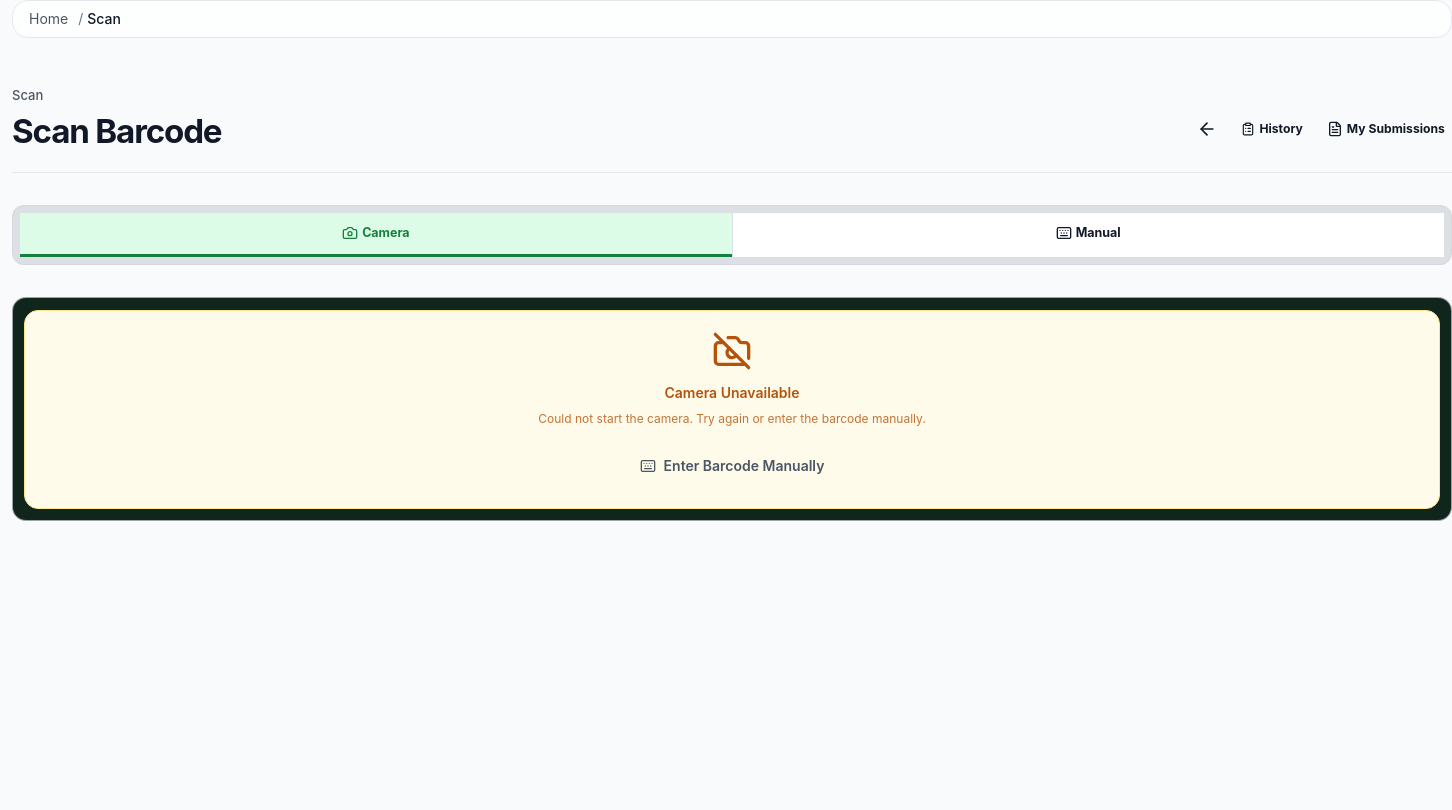
Test: ScanPage › enables look up button when EAN is valid (8+ digits)
This screenshot has width=1452, height=810.
Click the button "Manual" at [1088, 235], box [732,213,1444,257]
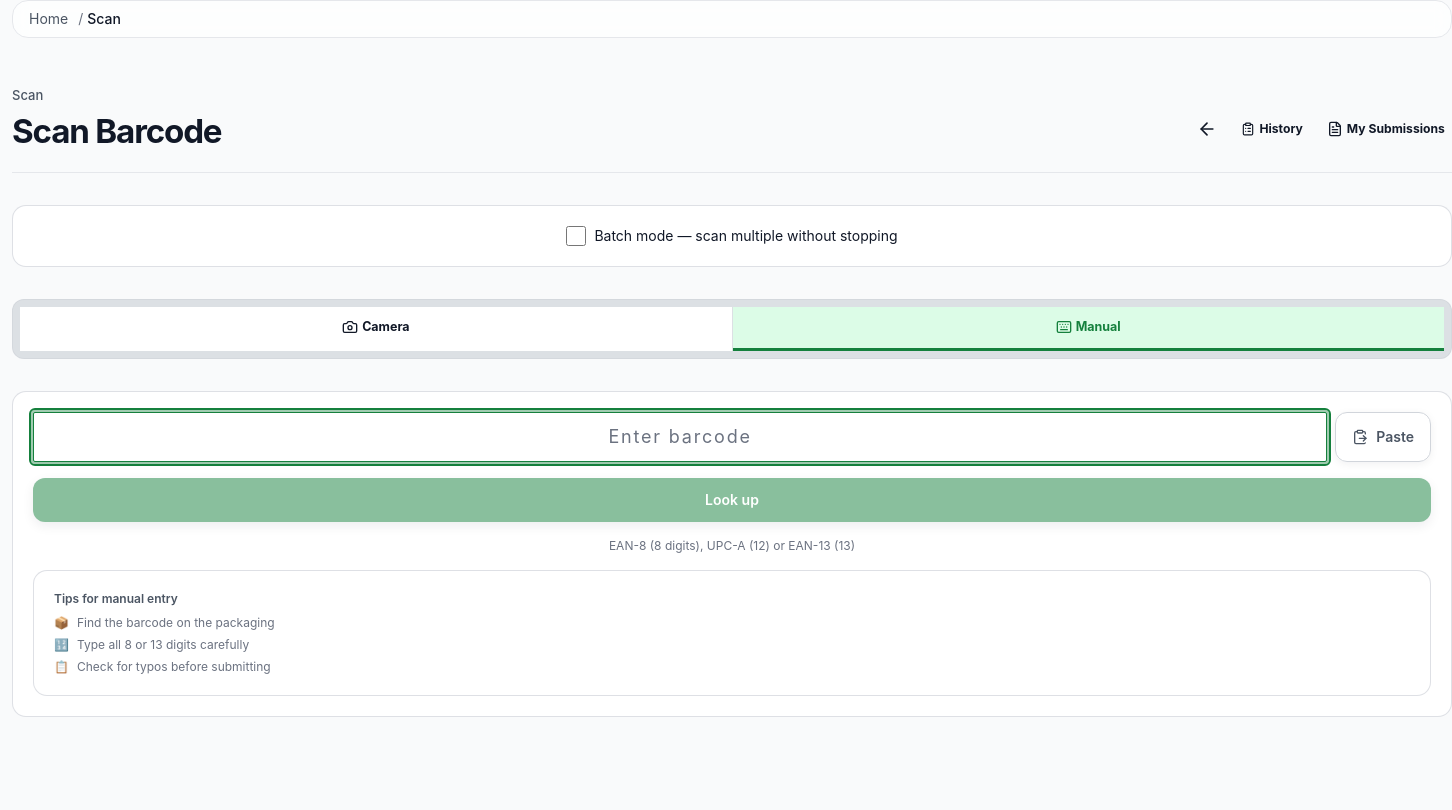
Type "12345678" into the field with placeholder "Enter barcode" at [680, 437], box [33,412,1327,462]
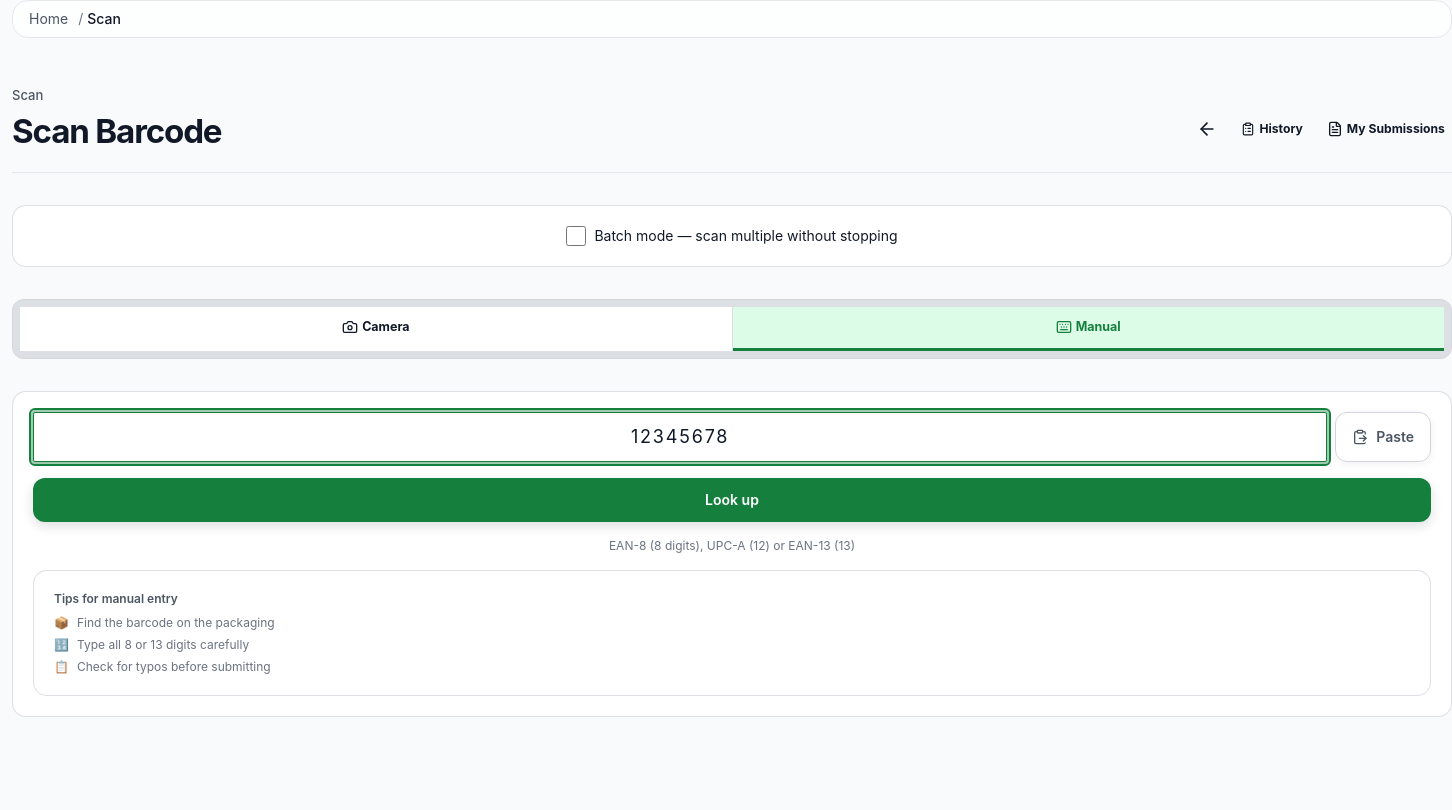
Expected: the button "Look up" is enabled, [33,478,1431,522]
